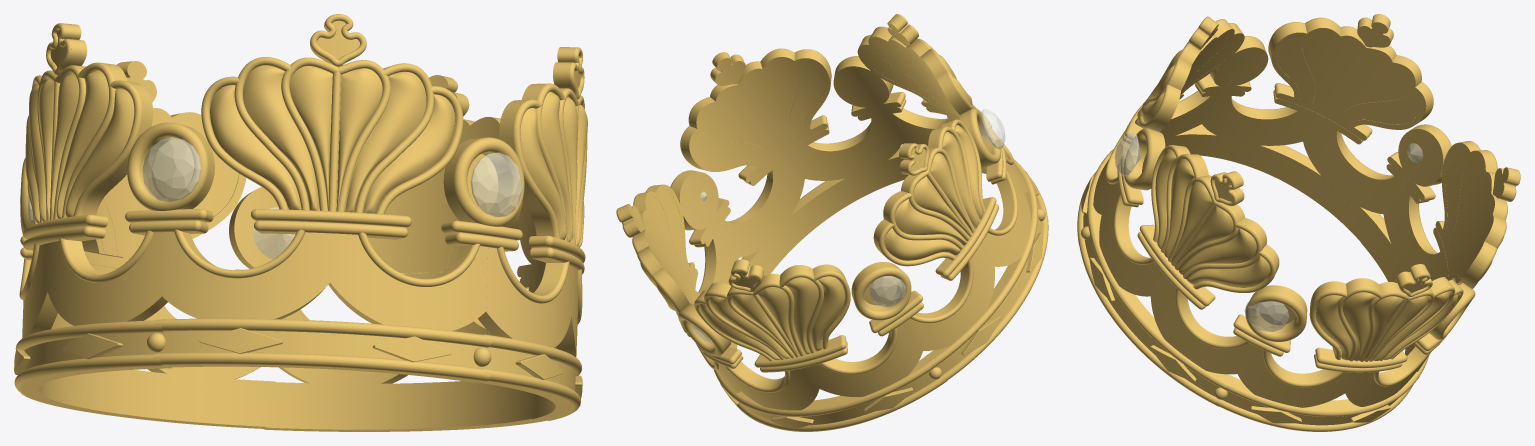
File: jewel-2.glb
3 renders of one model, left to right at view 1: azimuth 30°, elevation 25°; view 2: azimuth 150°, elevation 25°; view 3: azimuth 270°, elevation 25°, orthographic. The views are drawn at different scales.
Visible parts, largest first — view 1: Obj_149, Obj_000178; view 2: Obj_149, Obj_000178; view 3: Obj_149, Obj_000178.
Boxes of the visible parts, x1=… form: Obj_149: x1=14, y1=14, x2=587, y2=431; Obj_000178: x1=20, y1=137, x2=522, y2=258; Obj_149: x1=616, y1=14, x2=1048, y2=431; Obj_000178: x1=691, y1=109, x2=1005, y2=343; Obj_149: x1=1077, y1=14, x2=1520, y2=431; Obj_000178: x1=1114, y1=132, x2=1422, y2=331.
Bounding box in the file's own units: 0.0994 × 0.0959 × 0.1061.
